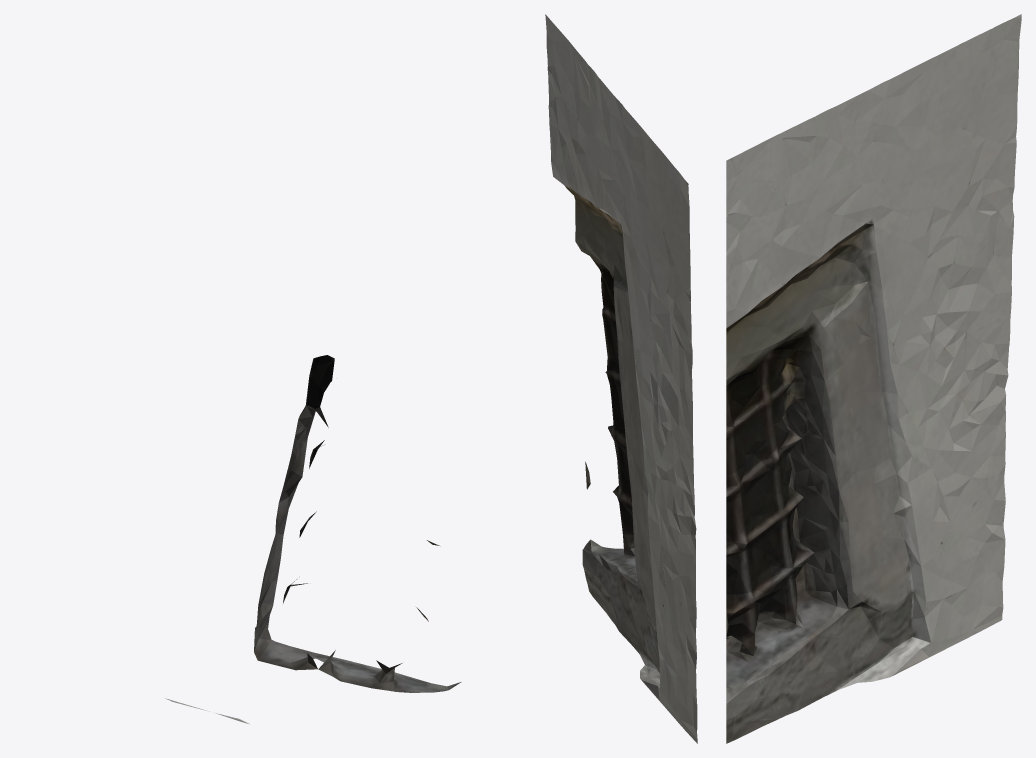
The picture shows the model from 3 angles, left to right: view 1: azimuth 30°, elevation 25°; view 2: azimuth 150°, elevation 25°; view 3: azimuth 270°, elevation 25°; orthographic projection. The views are drawn at different scales.
Bounding box in the file's own units: 0.8699 × 1.67 × 0.7404.
2 materials, 2 textured.
